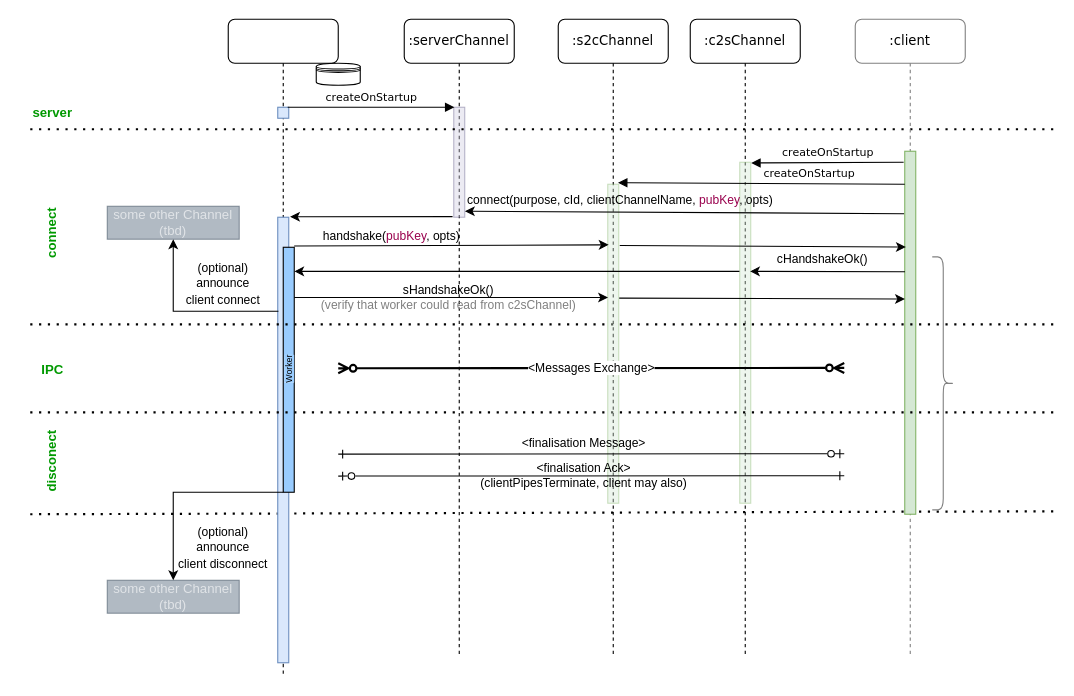
This 1074x696 diagram has some shape labels left out. Here are the shapes that lost their labels. From the top down, the box of each, then its label:
(227, 18, 338, 676): :server
(931, 256, 954, 510): encrypted
